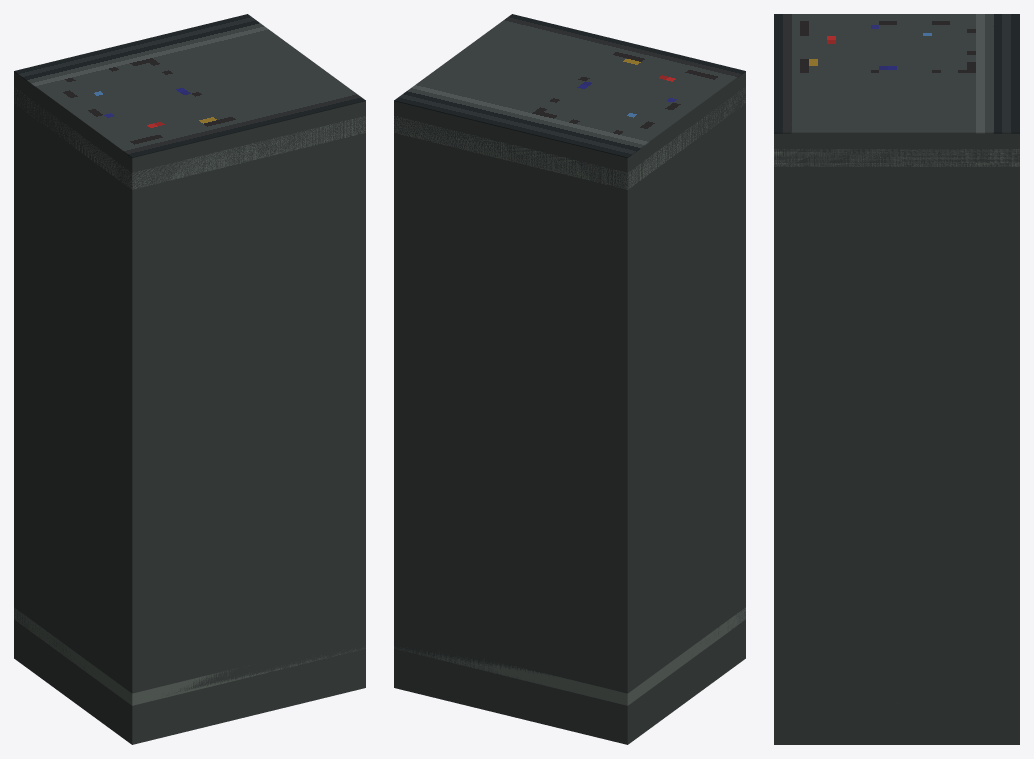
File: CMU3DInteriorVehicleAPCWall6.glb
3 views of the same model, side by side, from view 1: azimuth 30°, elevation 25°; view 2: azimuth 150°, elevation 25°; view 3: azimuth 270°, elevation 25° (orthographic). The views are drawn at different scales.
Visible parts, largest first — view 1: cabin bulkhead, cabin bulkhead source finish, upper armor trim, lower armor trim; view 2: cabin bulkhead, cabin bulkhead source finish, upper armor trim, lower armor trim; view 3: cabin bulkhead, cabin bulkhead source finish, upper armor trim.
Boxes of the visible parts, x1=… form: cabin bulkhead: x1=14, y1=72, x2=365, y2=744; cabin bulkhead source finish: x1=14, y1=14, x2=365, y2=157; upper armor trim: x1=14, y1=87, x2=365, y2=189; lower armor trim: x1=14, y1=607, x2=365, y2=705; cabin bulkhead: x1=394, y1=72, x2=745, y2=744; cabin bulkhead source finish: x1=394, y1=14, x2=745, y2=157; upper armor trim: x1=394, y1=88, x2=745, y2=189; lower armor trim: x1=394, y1=607, x2=745, y2=705; cabin bulkhead: x1=774, y1=133, x2=1019, y2=744; cabin bulkhead source finish: x1=774, y1=14, x2=1019, y2=133; upper armor trim: x1=774, y1=149, x2=1019, y2=166.
Bounding box in the file's own units: 1 × 2.4 × 0.875.
4 materials, 1 textured.
